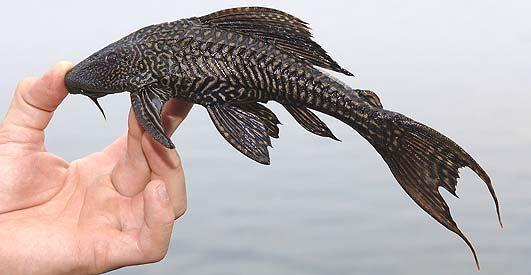Janitor Fish: (62, 5, 507, 274)
